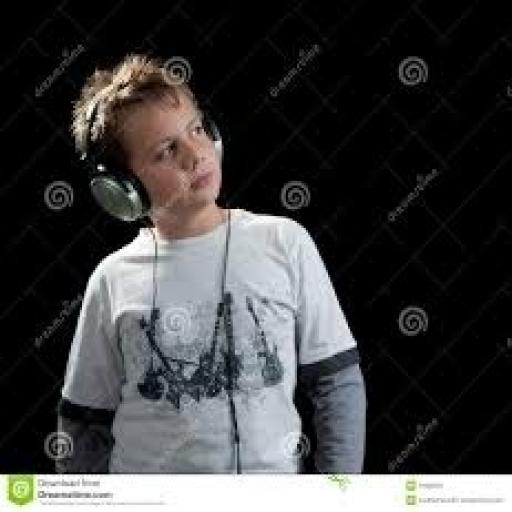listening_to_music: (51, 52, 368, 474)
